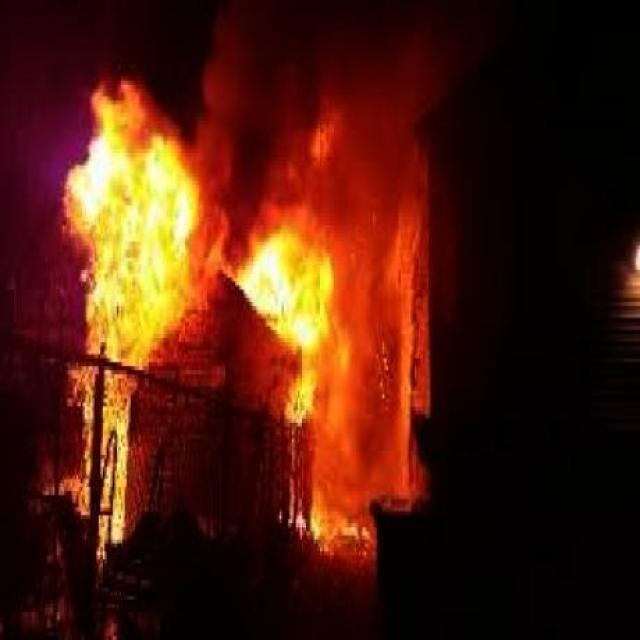Fire: (57, 85, 206, 373), (234, 227, 336, 428)
Smoke: (200, 12, 468, 236)
